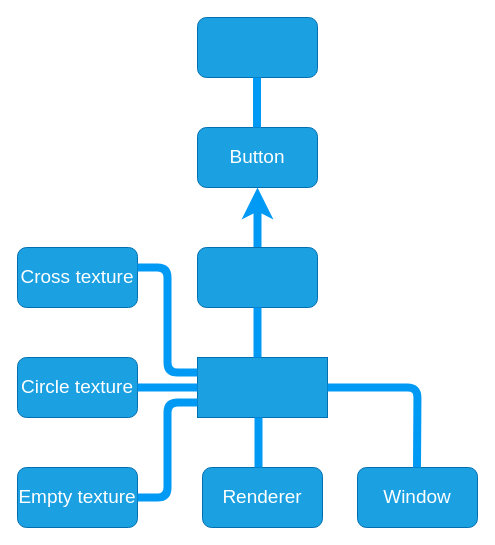
This 495x545 diagram has some shape labels left out. Each missing label, with the box of its shape:
Cell: (196, 246, 318, 308)
Texture: (196, 16, 318, 78)
Tic-Tac-Toe: (196, 356, 328, 418)
